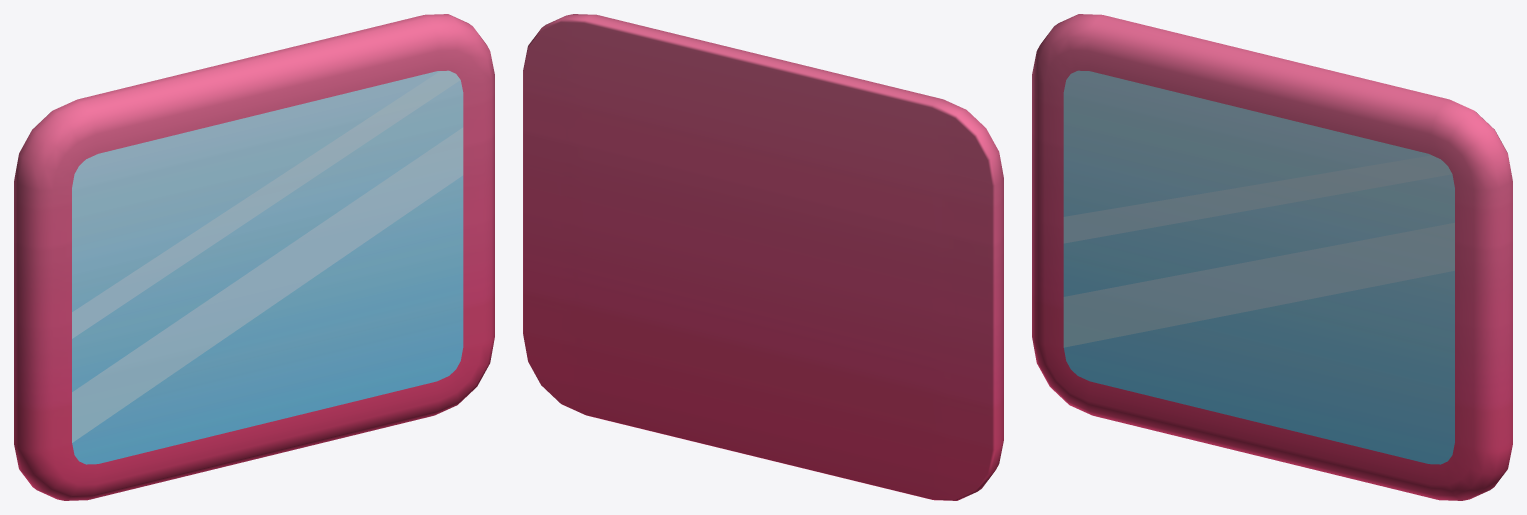
Rendered from Bath_Mirror_03.glb.
3 renders of one model, left to right at view 1: azimuth 30°, elevation 25°; view 2: azimuth 150°, elevation 25°; view 3: azimuth 330°, elevation 25°, orthographic.
Parts seen in each view (by area): view 1: Bath_Mirror_03; view 2: Bath_Mirror_03; view 3: Bath_Mirror_03.
Part boxes in pixels (x1=…): Bath_Mirror_03: x1=14, y1=14, x2=494, y2=500; Bath_Mirror_03: x1=523, y1=14, x2=1003, y2=500; Bath_Mirror_03: x1=1032, y1=14, x2=1512, y2=500.
Bounding box in the file's own units: 0.75 × 0.6 × 0.0516.
1 material, 1 textured.
